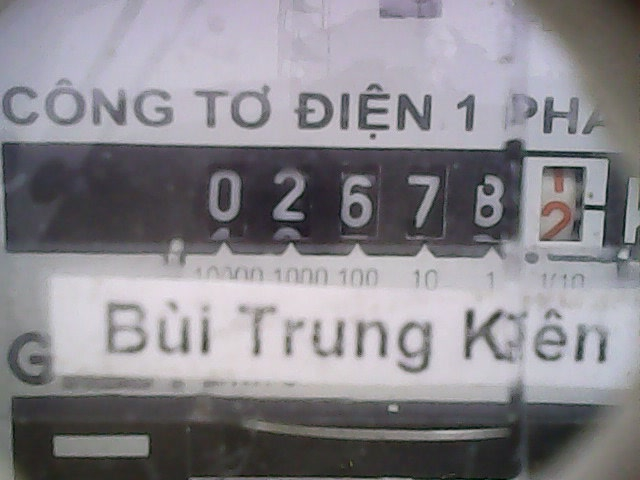phy_plate: (182, 147, 612, 260)
